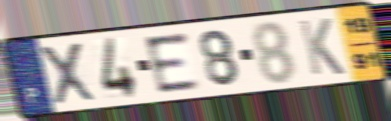4: (100, 35, 139, 101)
8: (250, 18, 298, 85), (198, 28, 242, 88)
E: (141, 30, 203, 96)
K: (296, 16, 347, 77)
X: (36, 40, 101, 108)
